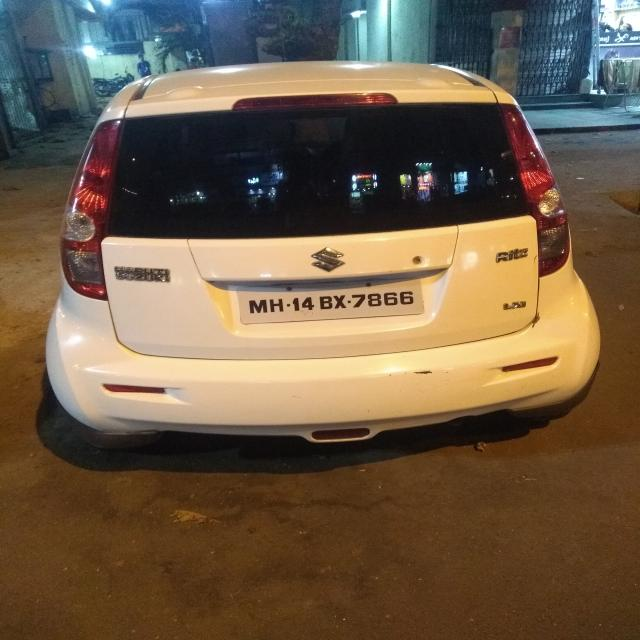Number-Plate: (240, 285, 426, 318)
